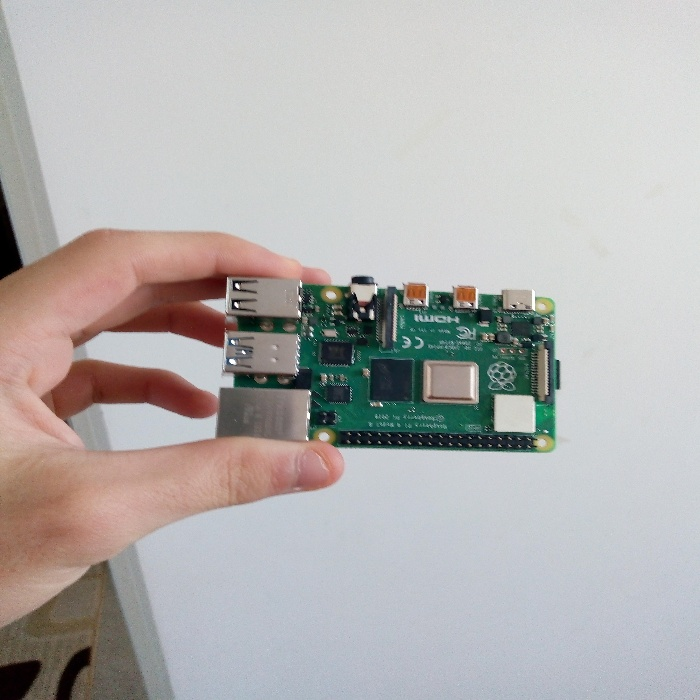raspberry: (201, 257, 572, 465)
